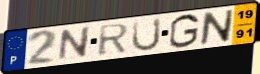2: (26, 29, 58, 68)
G: (168, 13, 202, 50)
N: (199, 8, 236, 47), (56, 25, 92, 63)
R: (97, 22, 131, 57)
U: (130, 16, 163, 53)
